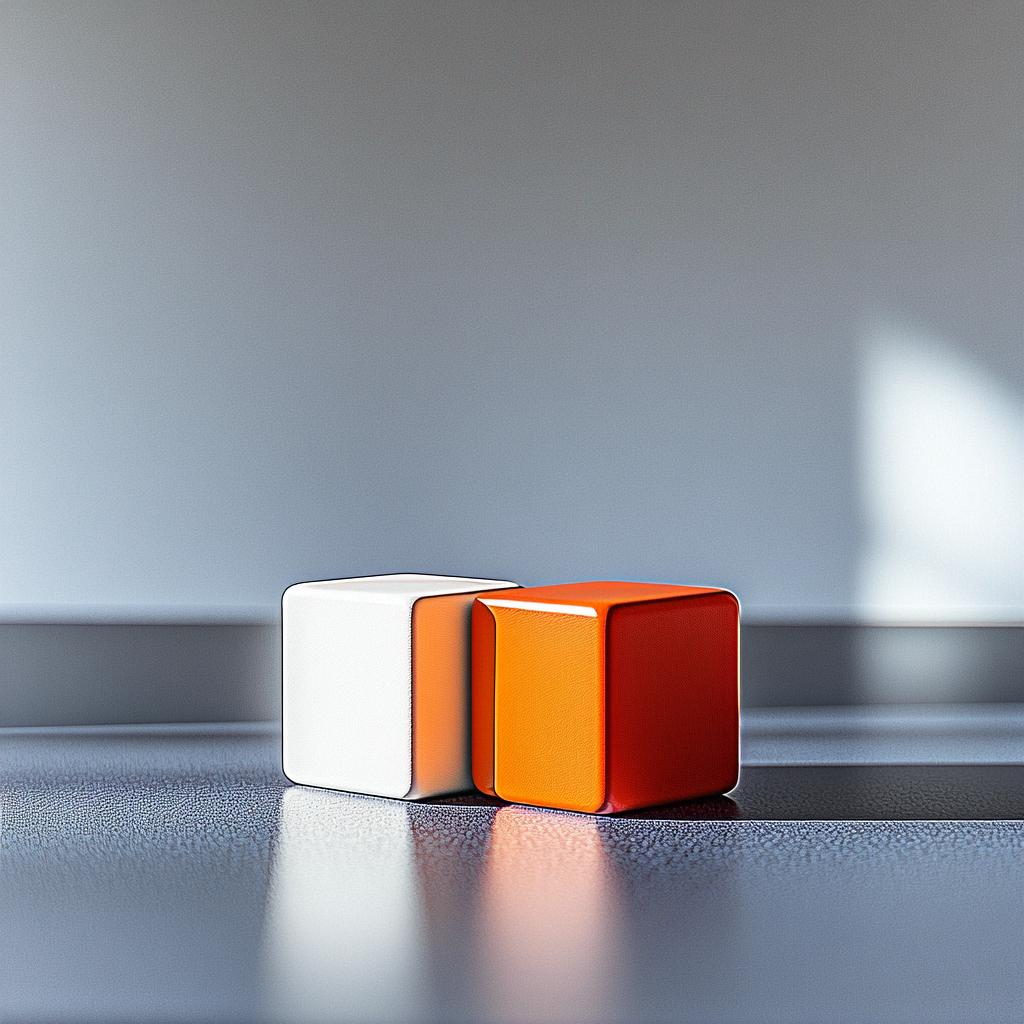cube: (469, 579, 740, 815), (280, 571, 521, 801)
